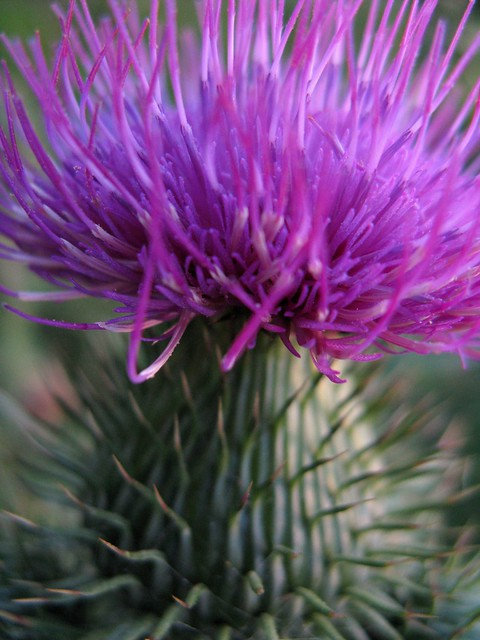thistle: (5, 8, 480, 639)
